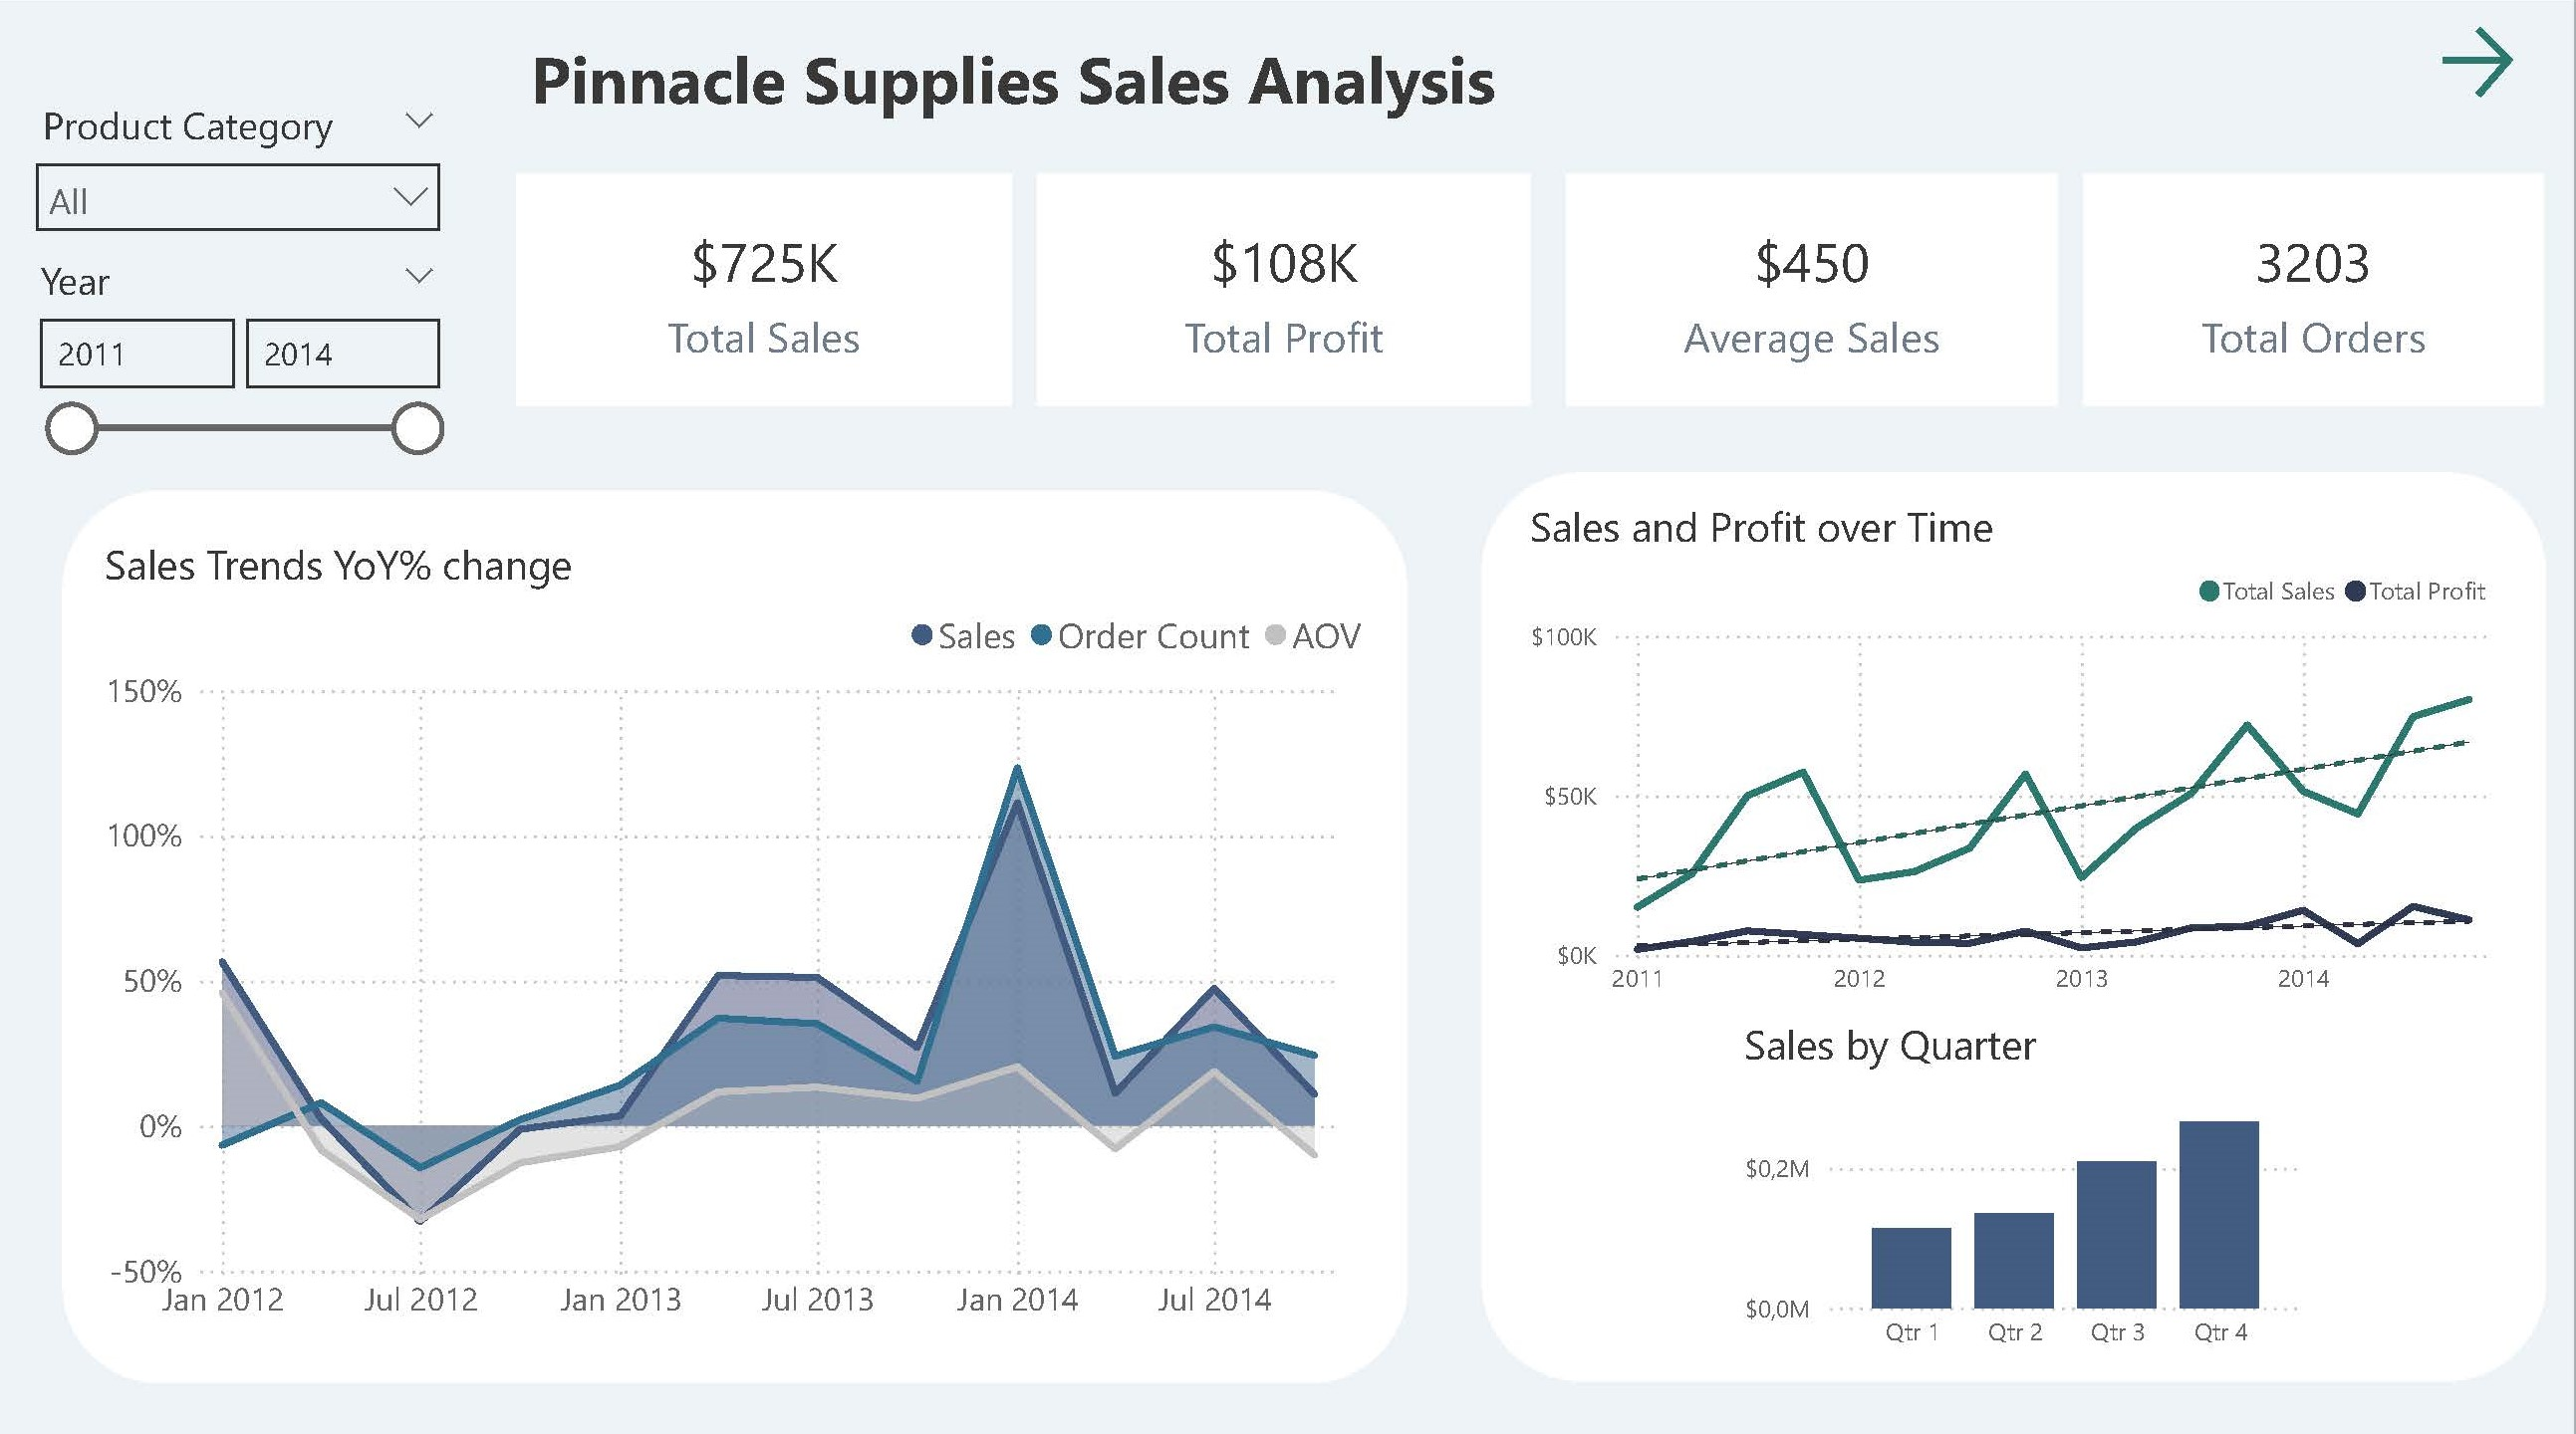

Layout of this report page (visuals, bound fields, positions):
{"tool":"powerbi","page":{"name":"Sales analysis","canvas":[1280,720],"ordinal":0},"visuals":[{"type":"shape","box":[0,0,1280,720],"z":0},{"type":"shape","box":[738.3,238.3,526.7,450],"z":1000},{"type":"shape","box":[35.3,246.9,665.6,442.3],"z":2000},{"type":"lineChart","title":"Sales and Profit over Time","fields":{"Category":["Sales.Order Date.Variation.Date Hierarchy.Year","Sales.Order Date.Variation.Date Hierarchy.Quarter","Sales.Order Date.Variation.Date Hierarchy.Month","Sales.Order Date.Variation.Date Hierarchy.Day"],"Y":["Sum(Sales.Sales)","Sum(Sales.Profit)"]},"box":[756.7,250,488.3,256.7],"z":3000},{"type":"clusteredColumnChart","title":"Sales by Quarter","fields":{"Y":["Sum(Sales.Sales)"],"Category":["Sales.Order Date.Variation.Date Hierarchy.Year","Sales.Order Date.Variation.Date Hierarchy.Quarter","Sales.Order Date.Variation.Date Hierarchy.Month","Sales.Order Date.Variation.Date Hierarchy.Day"]},"box":[863.3,506.7,286.7,175],"z":4000},{"type":"slicer","fields":{"Values":["Product.Category"]},"box":[11.8,48.5,220.4,76.4],"z":5000},{"type":"areaChart","title":"Sales Trends YoY% change","fields":{"Category":["Sales.Order Date.Variation.Date Hierarchy.Year","Sales.Order Date.Variation.Date Hierarchy.Quarter","Sales.Order Date.Variation.Date Hierarchy.Month","Sales.Order Date.Variation.Date Hierarchy.Day"],"Y":["Sales.Sum of Sales YoY%","Sales.Count of Order ID YoY%","Sales.Sales/order YoY%"]},"box":[51.4,268.6,637.1,400],"z":6000},{"type":"card","fields":{"Values":["Sum(Sales.Sales)"]},"box":[260,90,245,115],"z":7000},{"type":"card","fields":{"Values":["Sum(Sales.Profit)"]},"box":[518.3,90,243.3,115],"z":8000},{"type":"slicer","fields":{"Values":["Sales.Order Date.Variation.Date Hierarchy.Year"]},"box":[11,124.5,220.7,165.5],"z":9000},{"type":"card","fields":{"Values":["CountNonNull(Sales.Order ID)"]},"box":[1035.9,89.5,228.3,115.9],"z":10000},{"type":"card","fields":{"Values":["Sales.Avg Sales"]},"box":[778.9,89.6,242.9,115.4],"z":11000},{"type":"actionButton","box":[1208.3,11.7,56.7,45],"z":12000},{"type":"textbox","box":[261.7,15,518.3,61.7],"z":13000}]}

Visuals, with their boxes in screenshot pixels (x1, y1, x2, y2), scaled from the page's 1280x720 canvas onto the 2576x1434 screenshot:
shape: [x1=0, y1=0, x2=2575, y2=1433]
shape: [x1=1486, y1=475, x2=2546, y2=1371]
shape: [x1=71, y1=492, x2=1411, y2=1372]
"Sales and Profit over Time" lineChart: [x1=1523, y1=498, x2=2505, y2=1009]
"Sales by Quarter" clusteredColumnChart: [x1=1737, y1=1009, x2=2314, y2=1357]
slicer - Product.Category: [x1=24, y1=97, x2=467, y2=249]
"Sales Trends YoY% change" areaChart: [x1=104, y1=535, x2=1386, y2=1331]
card - Sum(Sales.Sales): [x1=523, y1=179, x2=1016, y2=408]
card - Sum(Sales.Profit): [x1=1043, y1=179, x2=1533, y2=408]
slicer - Sales.Order Date.Variation.Date Hierarchy.Year: [x1=22, y1=248, x2=466, y2=578]
card - CountNonNull(Sales.Order ID): [x1=2085, y1=178, x2=2544, y2=409]
card - Sales.Avg Sales: [x1=1568, y1=178, x2=2056, y2=408]
actionButton: [x1=2432, y1=23, x2=2546, y2=113]
textbox: [x1=527, y1=30, x2=1570, y2=152]
